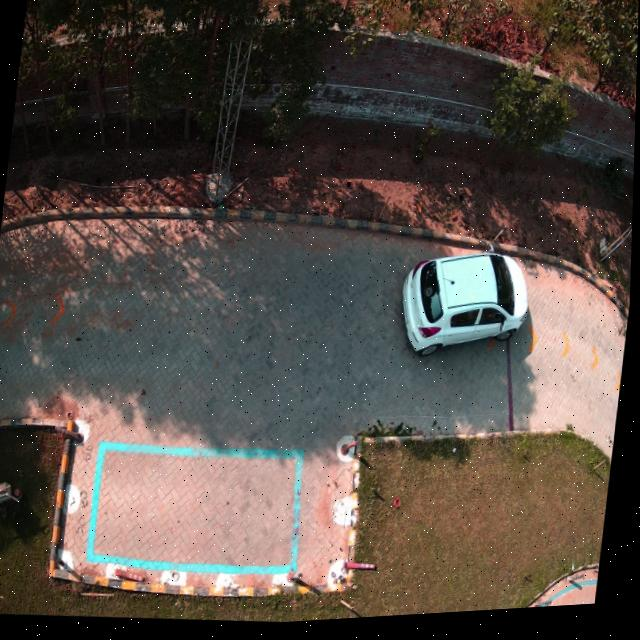car: (404, 257, 530, 362)
